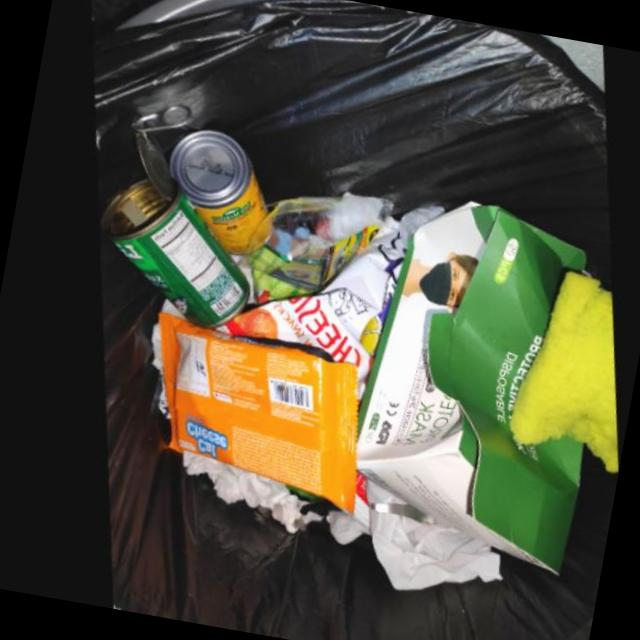bao_bi_thuc_pham: (151, 314, 351, 516), (209, 232, 401, 401)
carton: (347, 203, 582, 575)
giay: (173, 451, 312, 534)
nhom: (94, 107, 244, 330), (165, 132, 268, 256)
